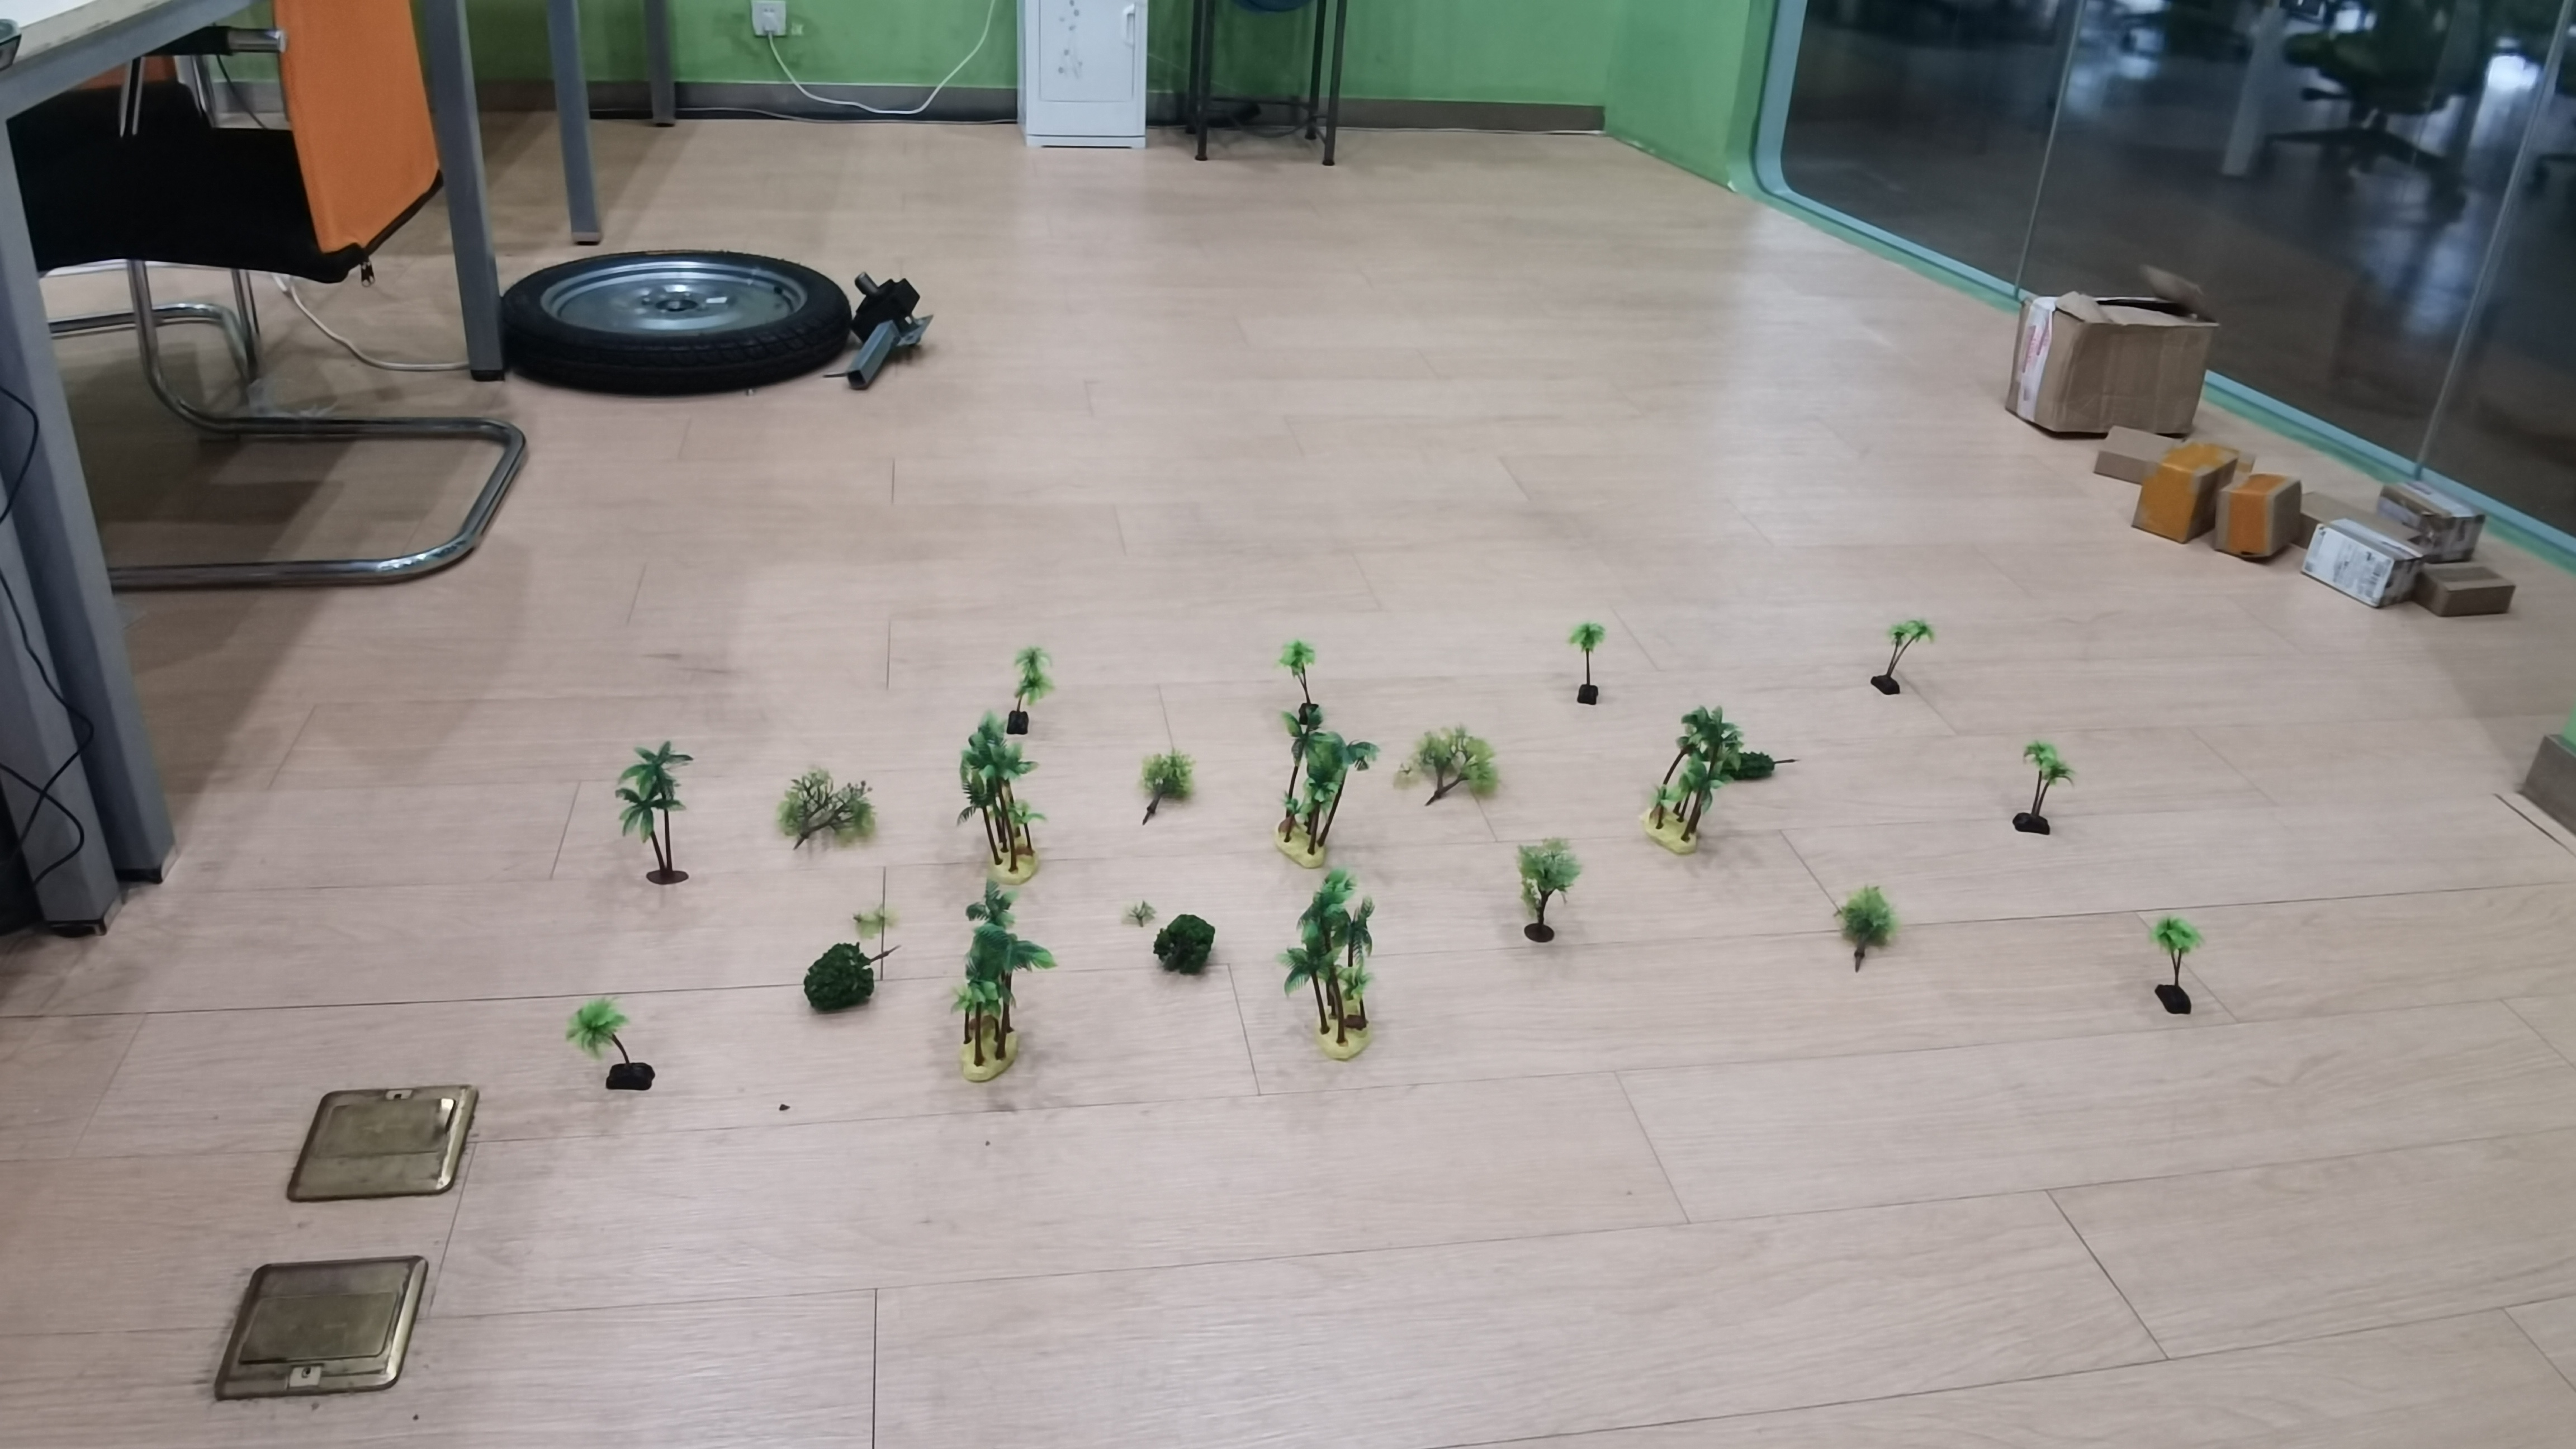corn: (1274, 872, 1414, 1058), (920, 887, 1040, 1082), (951, 721, 1071, 883), (1632, 700, 1749, 853), (1270, 717, 1379, 863), (547, 987, 675, 1097), (607, 736, 703, 881), (2141, 913, 2223, 1022), (1248, 633, 1334, 726), (2002, 730, 2073, 842), (1859, 613, 1945, 704), (984, 645, 1059, 736), (1555, 617, 1628, 708)
